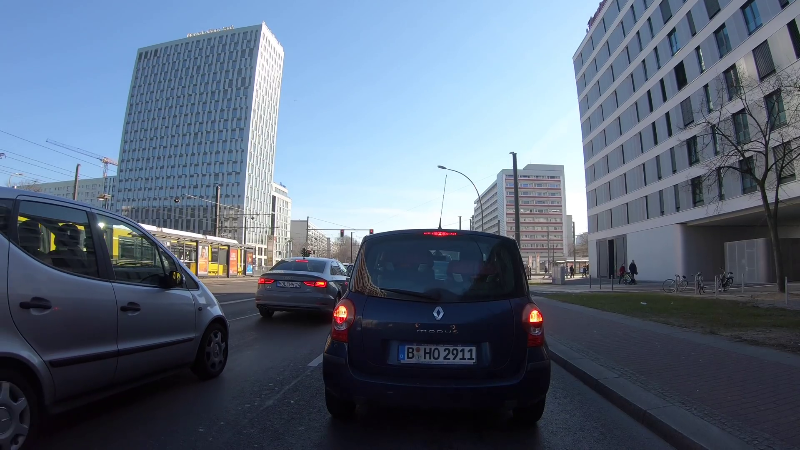Plate: (395, 341, 481, 367), (273, 278, 302, 291)
